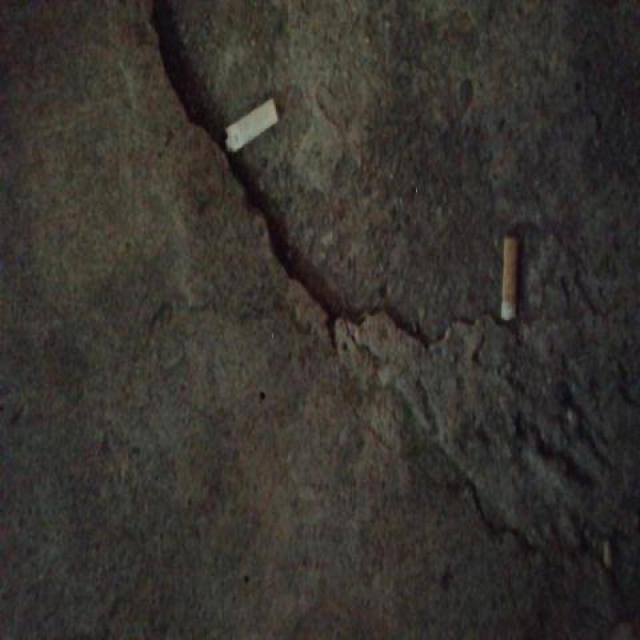non-organic waste: (220, 92, 280, 157), (498, 230, 522, 325)
